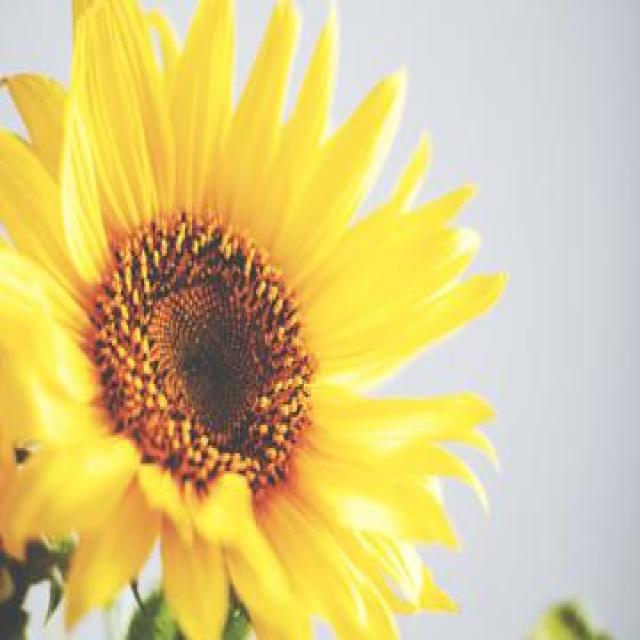sunflower: (0, 0, 523, 640)
